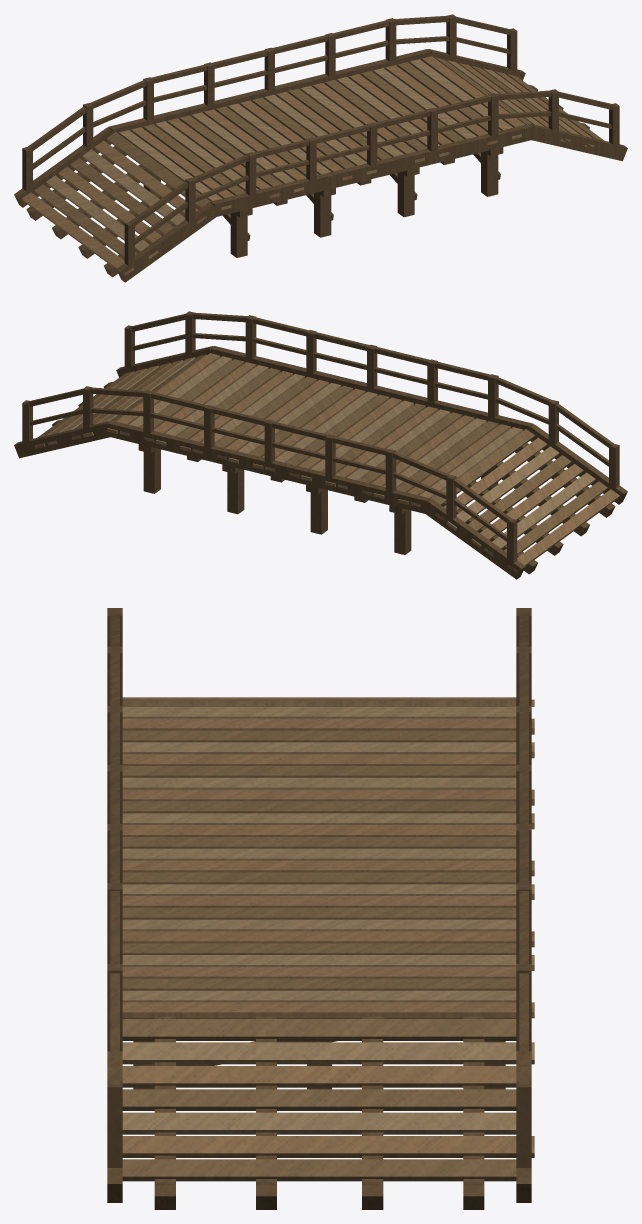
The model's file is bridge_wood.glb.
3 renders of one model, top to bottom at view 1: azimuth 30°, elevation 25°; view 2: azimuth 150°, elevation 25°; view 3: azimuth 270°, elevation 25°, orthographic. The views are drawn at different scales.
Visible parts, largest first — view 1: bridge_wood; view 2: bridge_wood; view 3: bridge_wood.
Boxes of the visible parts, x1=… form: bridge_wood: x1=14, y1=14, x2=627, y2=282; bridge_wood: x1=14, y1=311, x2=627, y2=579; bridge_wood: x1=107, y1=608, x2=534, y2=1209.
Bounding box in the file's own units: 12.16 × 2.4 × 4.43.
Materials: 1 (1 with a texture image).
